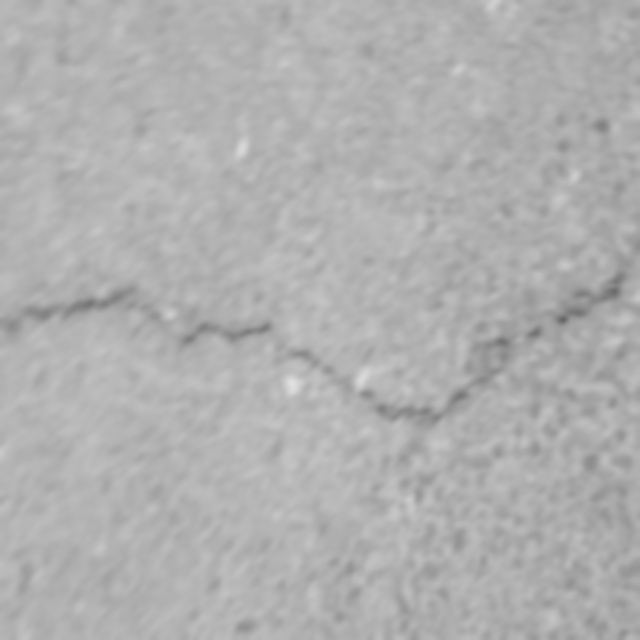SurfaceCrack: (0, 221, 639, 461)
